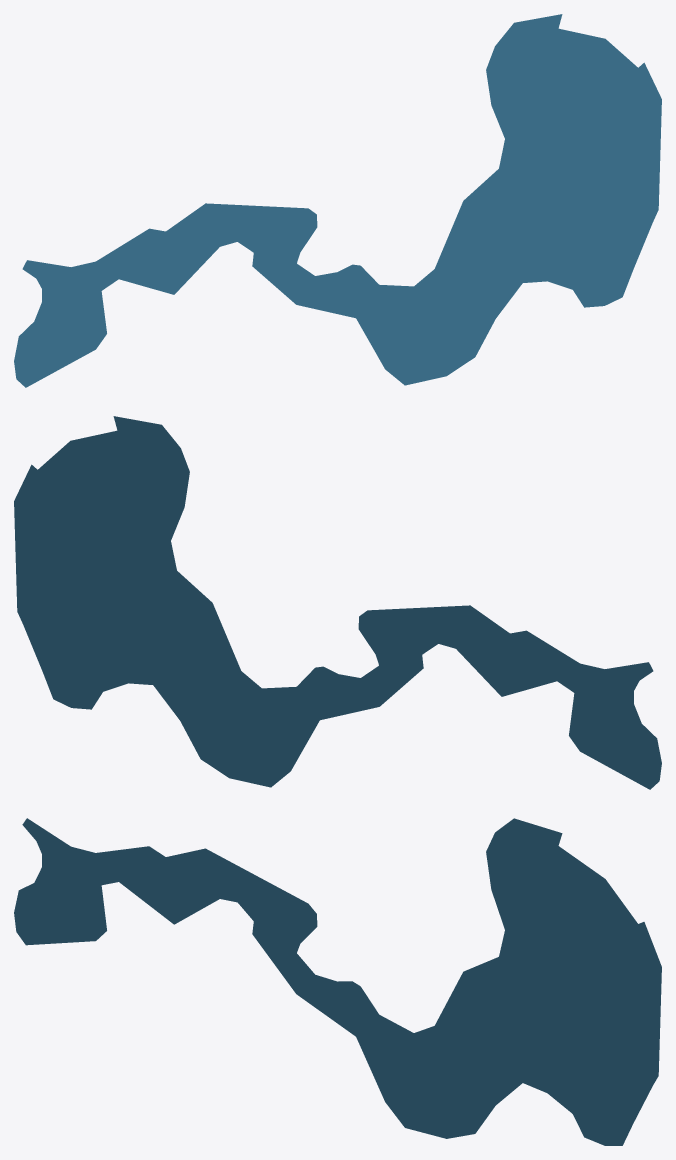
File: water.obj
3 renders of one model, top to bottom at view 1: azimuth 30°, elevation 25°; view 2: azimuth 150°, elevation 25°; view 3: azimuth 330°, elevation 25°, orthographic.
Parts seen in each view (by area): view 1: xian_software_city_water; view 2: xian_software_city_water; view 3: xian_software_city_water.
Boxes of the visible parts, x1,y1,x2,y2 form: xian_software_city_water: (14, 14, 661, 387); xian_software_city_water: (14, 416, 661, 789); xian_software_city_water: (14, 818, 661, 1145).
Size of the model in its own units: 331 by 165 by 0.
